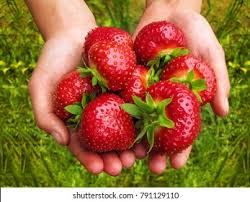ripe: (140, 81, 203, 155), (78, 91, 138, 155), (83, 25, 138, 89), (155, 53, 217, 109), (134, 24, 191, 61), (123, 63, 158, 98)
